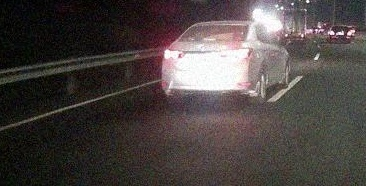L_light: (163, 49, 186, 60)
R_light: (225, 48, 252, 59)
T_light: (204, 37, 216, 41)
night-no: (161, 20, 253, 104)
